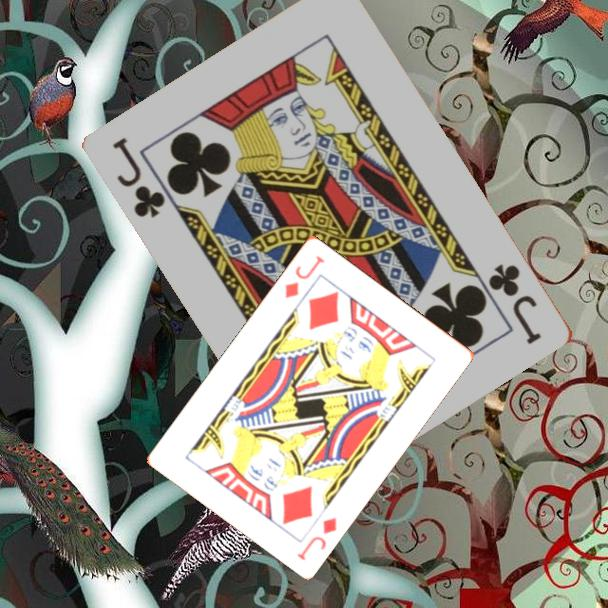c11: (109, 133, 169, 222), (485, 260, 545, 348)
d11: (293, 513, 340, 563), (281, 252, 327, 301)
